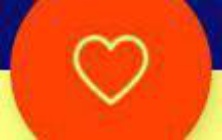ImgButton: (1, 1, 221, 139)
